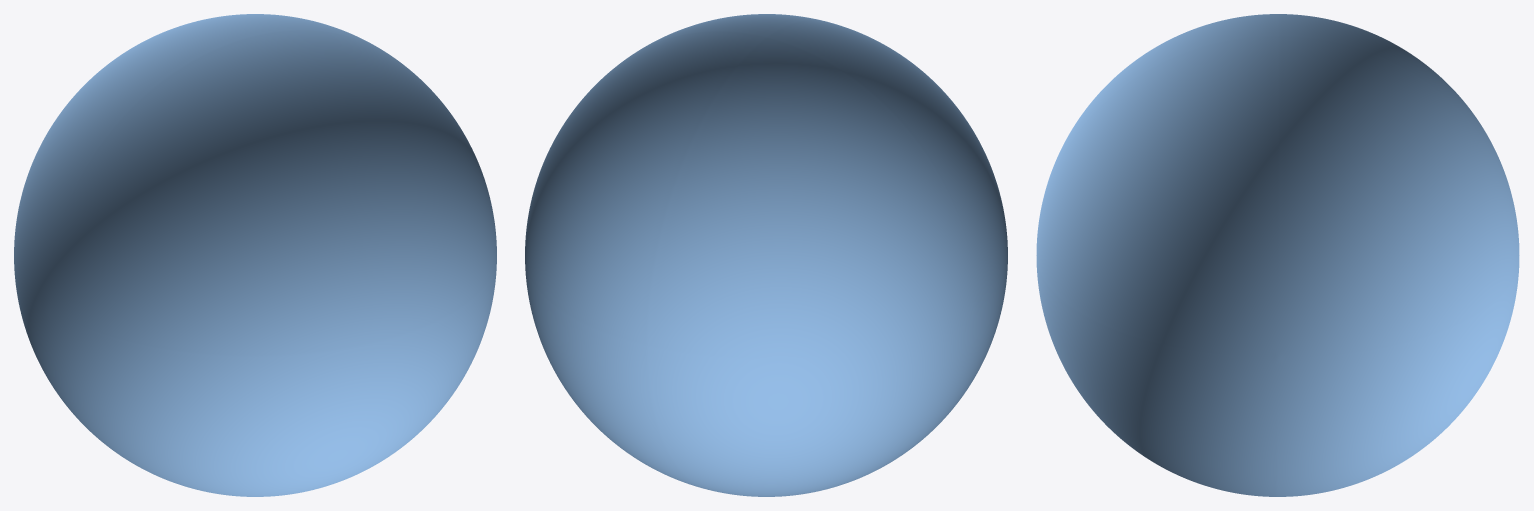
Rendered from white_sphere.obj.
The picture shows the model from 3 angles, left to right: view 1: azimuth 30°, elevation 25°; view 2: azimuth 150°, elevation 25°; view 3: azimuth 270°, elevation 25°; orthographic projection.
Visible parts, largest first — view 1: obj1; view 2: obj1; view 3: obj1.
Boxes of the visible parts, x1,y1,x2,y2 form: obj1: (14, 14, 496, 496); obj1: (525, 14, 1007, 496); obj1: (1036, 14, 1519, 496).
Bounding box in the file's own units: 20 × 20 × 20.
